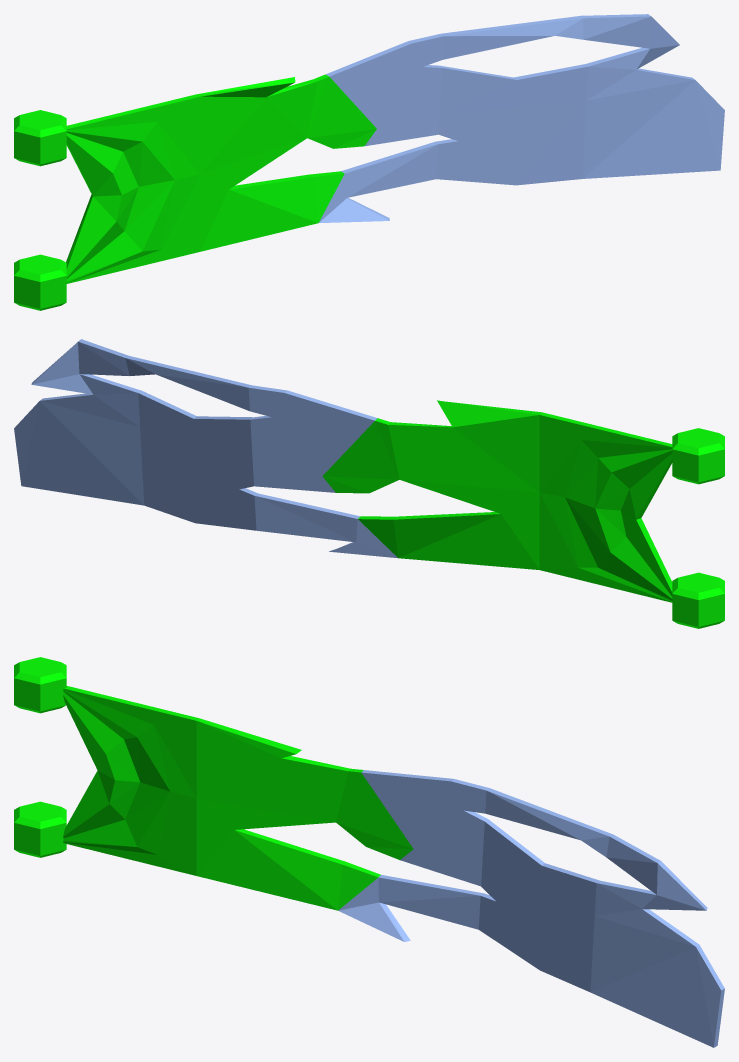
The model's file is SM_Flag_Thin_A_Broken_Fantasy.fbx.
3 renders of one model, top to bottom at view 1: azimuth 30°, elevation 25°; view 2: azimuth 150°, elevation 25°; view 3: azimuth 330°, elevation 25°, orthographic.
Visible parts, largest first — view 1: flag-thin-a-broken-fantasy; view 2: flag-thin-a-broken-fantasy; view 3: flag-thin-a-broken-fantasy.
Part boxes in pixels (x1,y1,x2,y2): flag-thin-a-broken-fantasy: (14, 14, 724, 310); flag-thin-a-broken-fantasy: (14, 339, 724, 628); flag-thin-a-broken-fantasy: (14, 657, 724, 1047).
Size of the model in its own units: 1.21 by 0.347 by 0.1115.
